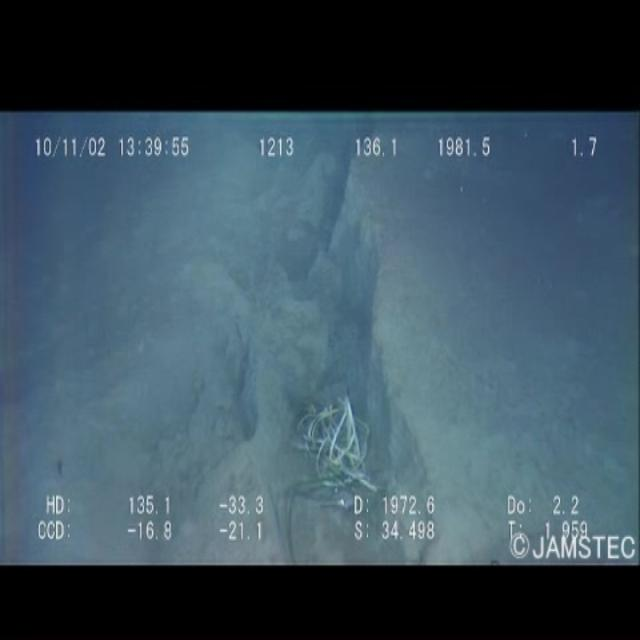Rope: (281, 389, 381, 515)
